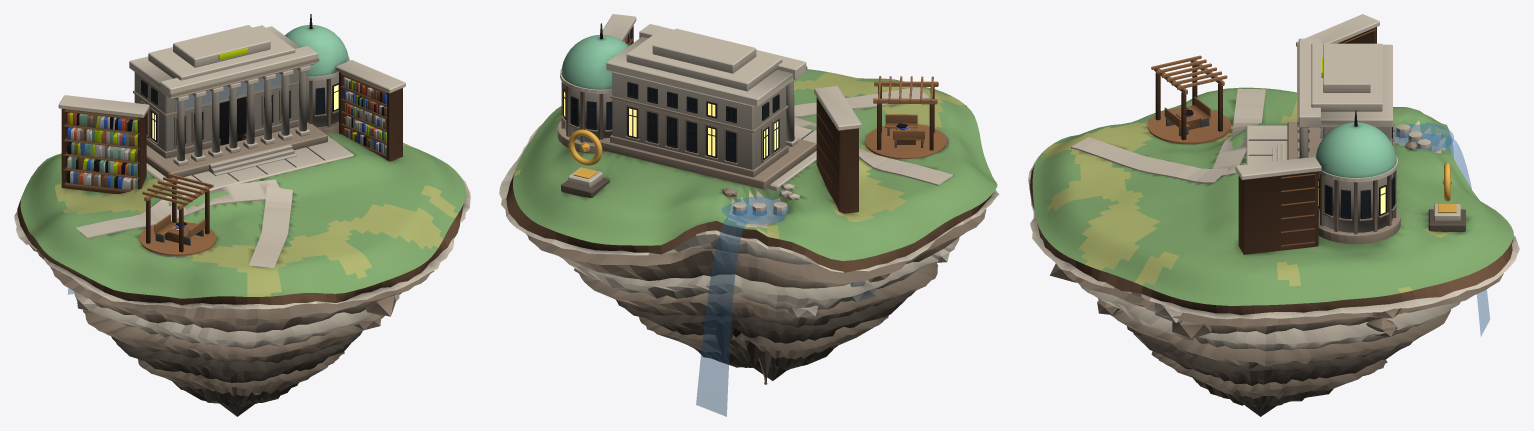
File: blogs.glb
3 renders of one model, left to right at view 1: azimuth 30°, elevation 25°; view 2: azimuth 150°, elevation 25°; view 3: azimuth 270°, elevation 25°, orthographic. The views are drawn at different scales.
Visible parts, largest first — view 1: terrain, foundation, buildings, props, landmarks; view 2: terrain, foundation, buildings, props, landmarks, waterfall_0, water_pond0, anim_spin_monument_ring; view 3: terrain, foundation, buildings, landmarks, props, water_pond0, waterfall_0.
Part boxes in pixels (x1,y1,x2,y2): terrain: (20, 133, 466, 298); foundation: (14, 179, 470, 416); buildings: (129, 14, 349, 252); props: (67, 77, 386, 245); landmarks: (58, 60, 405, 194); terrain: (513, 69, 997, 260); foundation: (499, 105, 999, 384); buildings: (557, 23, 938, 197); props: (561, 31, 933, 215); landmarks: (602, 14, 861, 213); waterfall_0: (696, 215, 747, 416); water_pond0: (721, 196, 789, 224); anim_spin_monument_ring: (568, 129, 602, 165); terrain: (1032, 87, 1513, 305); foundation: (1028, 134, 1519, 416); buildings: (1154, 38, 1465, 243); landmarks: (1235, 14, 1379, 254); props: (1151, 55, 1431, 234); water_pond0: (1394, 122, 1453, 151); waterfall_0: (1442, 136, 1489, 336).
Bounding box in the file's own units: 17 × 13.65 × 16.52.
